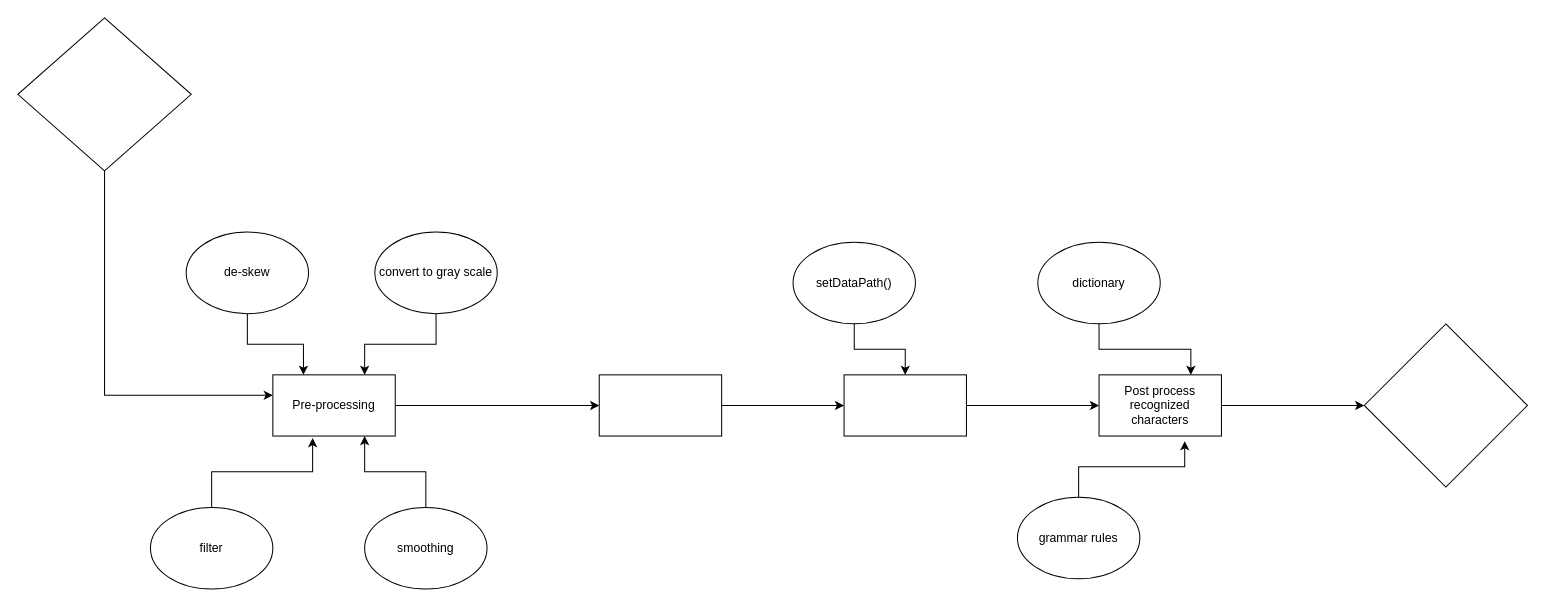
Some shapes in this 1545 by 607 pixel diagram are drawn without their labels. The centre of each missing label's shape, as x and y in pixels:
Detect lines, words, and characters: (660,405)
Image passed as Input: (104,94)
Produce ranked list of candidate characters: (904,405)
Text Produced as output: (1445,405)
